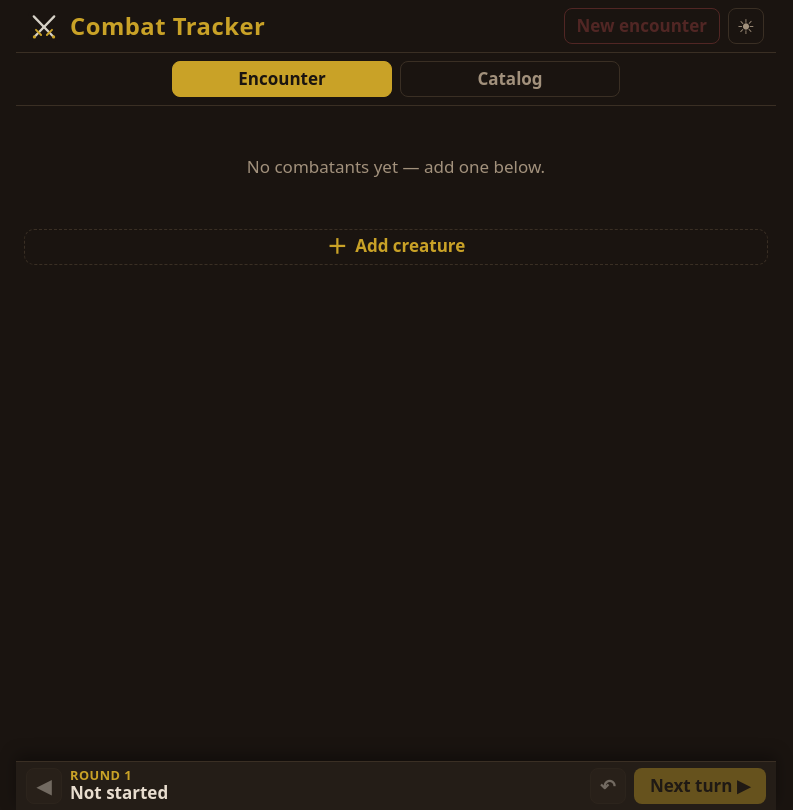
App › edits a combatant armor class
The image size is (793, 810).
Click the button "＋ Add creature" at (396, 247), box [24,229,768,265]
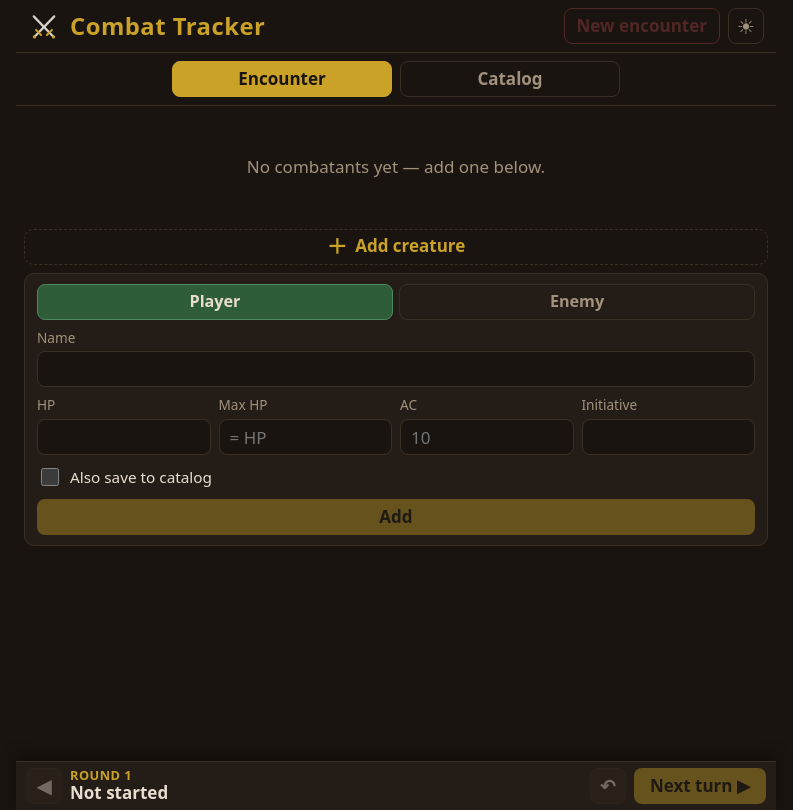
Type "Knight" into the field labelled "Name" at (396, 369), box [37,351,755,387]
Type "20" into the number field labelled "HP" at (124, 437), box [37,419,210,455]
Type "9" into the number field labelled "Initiative" at (668, 437), box [582,419,755,455]
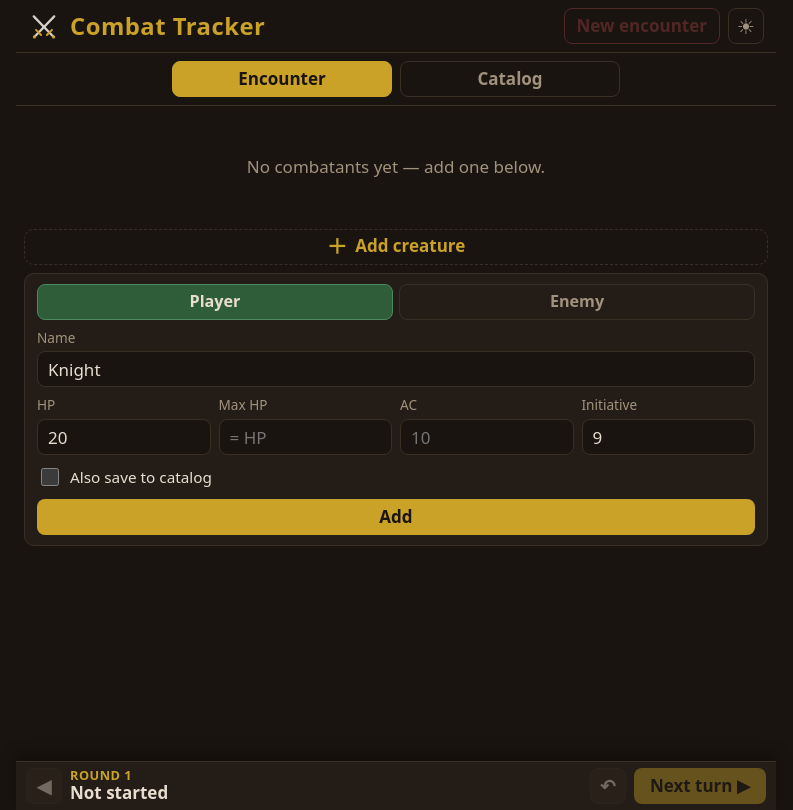
Click the button "Add" at (396, 517), box [37,499,755,535]
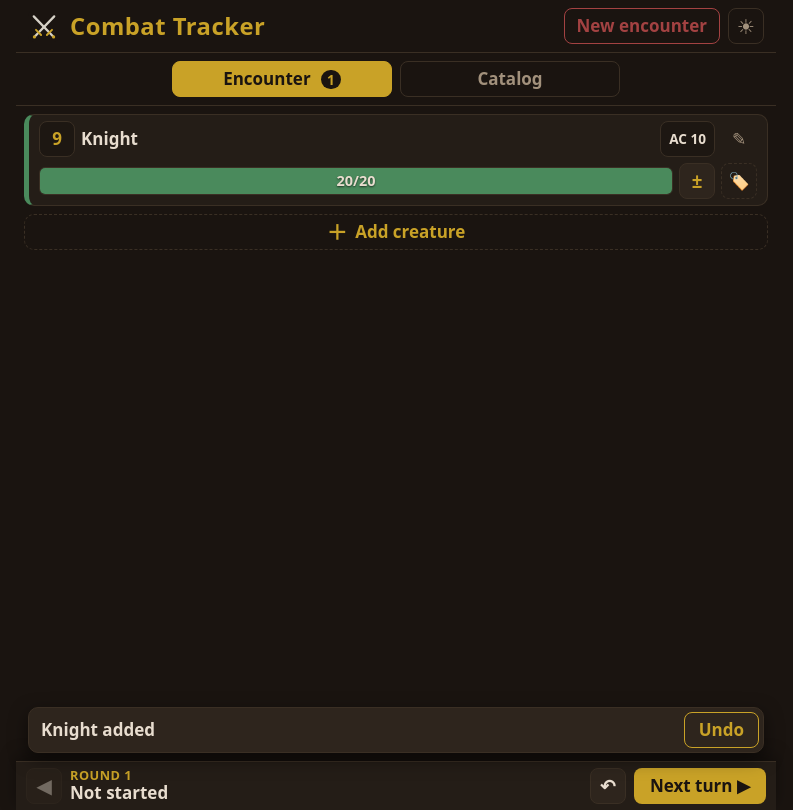
Click the button "AC 10" at (688, 139), box [660,121,715,157]
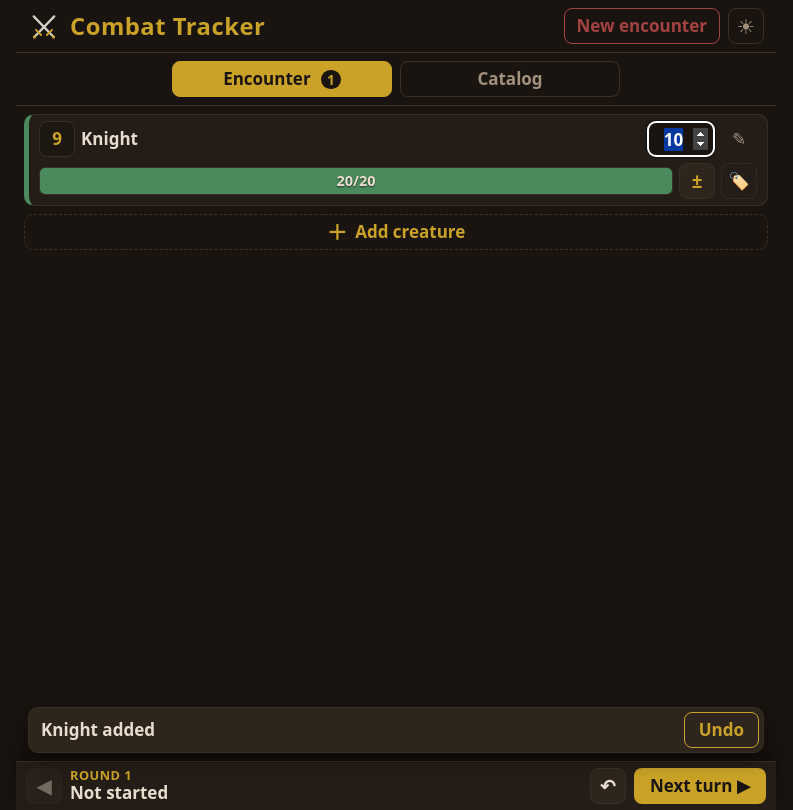
Replace the text in the number field with class "ca-input" with "16" at (681, 139), box [647,121,715,157]
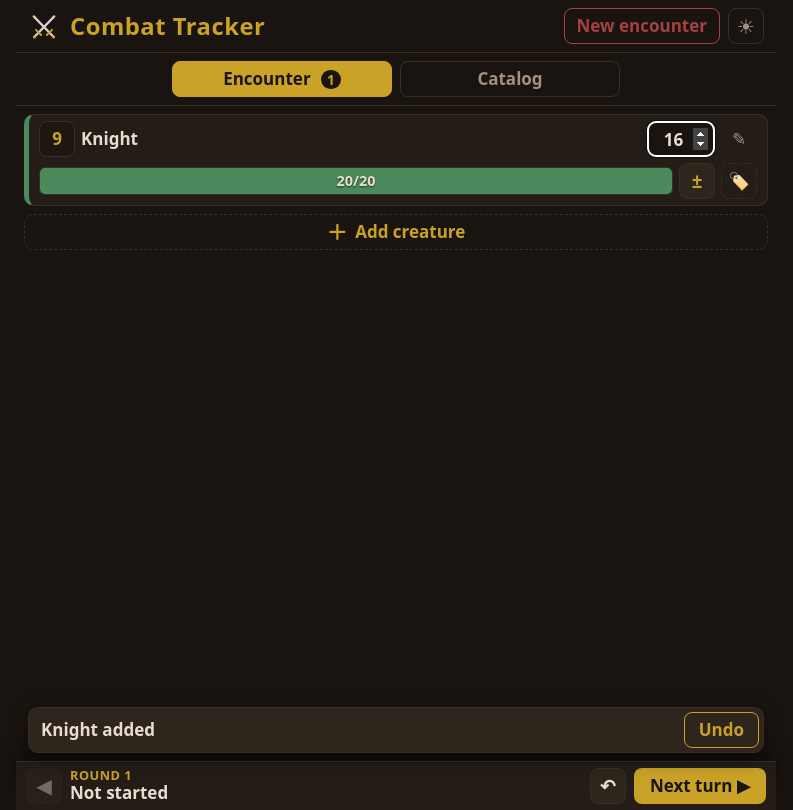
Leave the number field with class "ca-input", box [647,121,715,157]
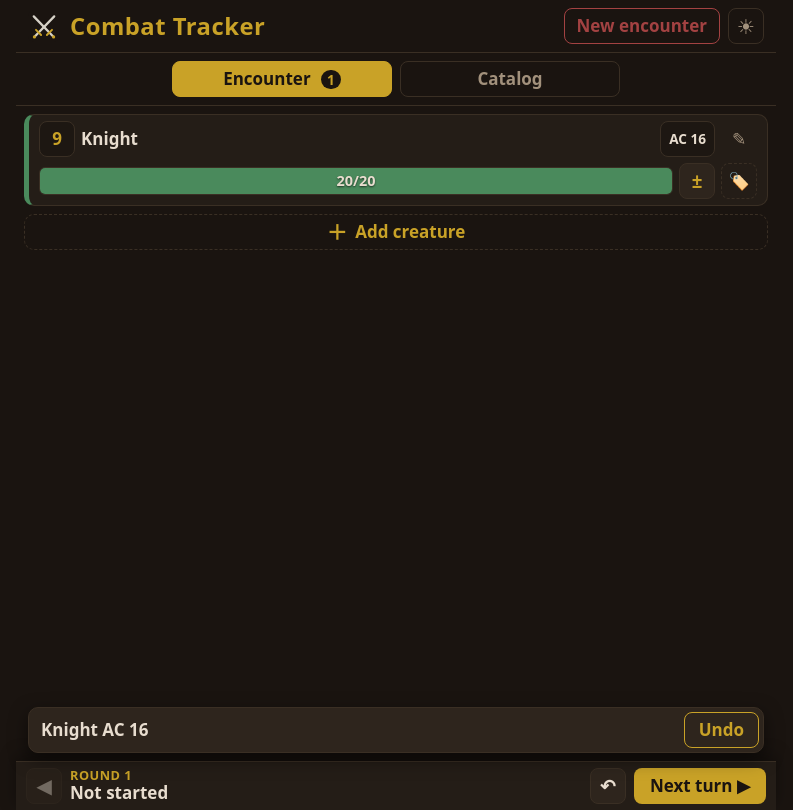
Expected: the button "AC 16" is shown, [660,121,715,157]
